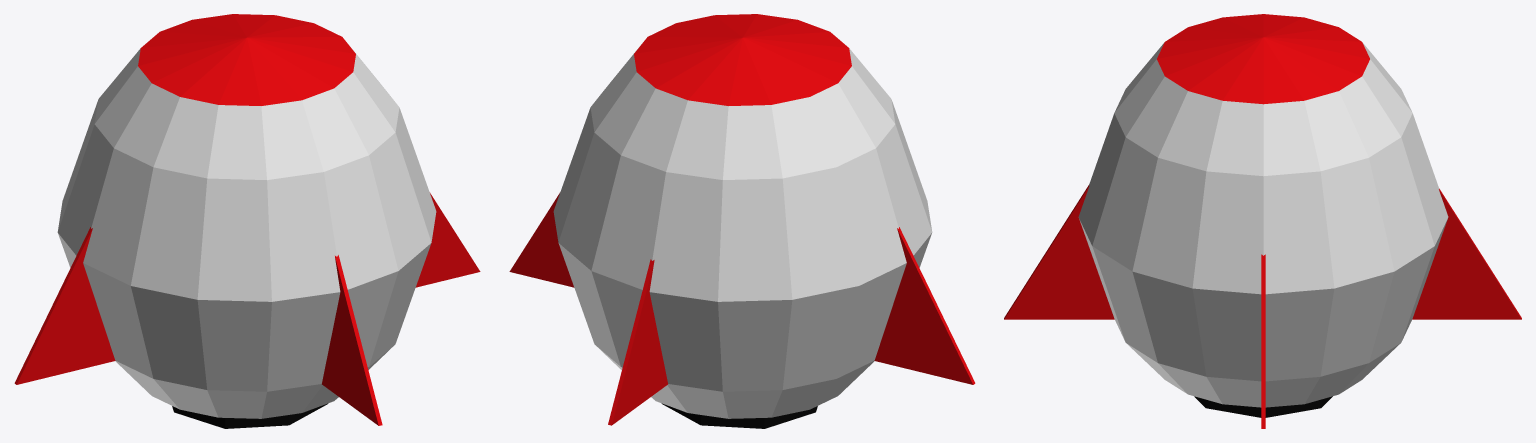
The model's file is red_rocket.glb.
3 views of the same model, side by side, from view 1: azimuth 30°, elevation 25°; view 2: azimuth 150°, elevation 25°; view 3: azimuth 270°, elevation 25° (orthographic). The views are drawn at different scales.
Visible parts, largest first — view 1: Cylinder, Cylinder.004, Cylinder.005; view 2: Cylinder, Cylinder.004, Cylinder.005; view 3: Cylinder, Cylinder.004, Cylinder.005.
Boxes of the visible parts, box(x1,y1,x2,y2) form: Cylinder: box(57, 14, 436, 418); Cylinder.004: box(14, 193, 480, 425); Cylinder.005: box(172, 403, 328, 428); Cylinder: box(553, 14, 932, 418); Cylinder.004: box(509, 193, 975, 425); Cylinder.005: box(661, 403, 817, 428); Cylinder: box(1078, 14, 1448, 407); Cylinder.004: box(1004, 185, 1521, 428); Cylinder.005: box(1194, 396, 1332, 417).
Bounding box in the file's own units: 3.21 × 2.44 × 3.2.
